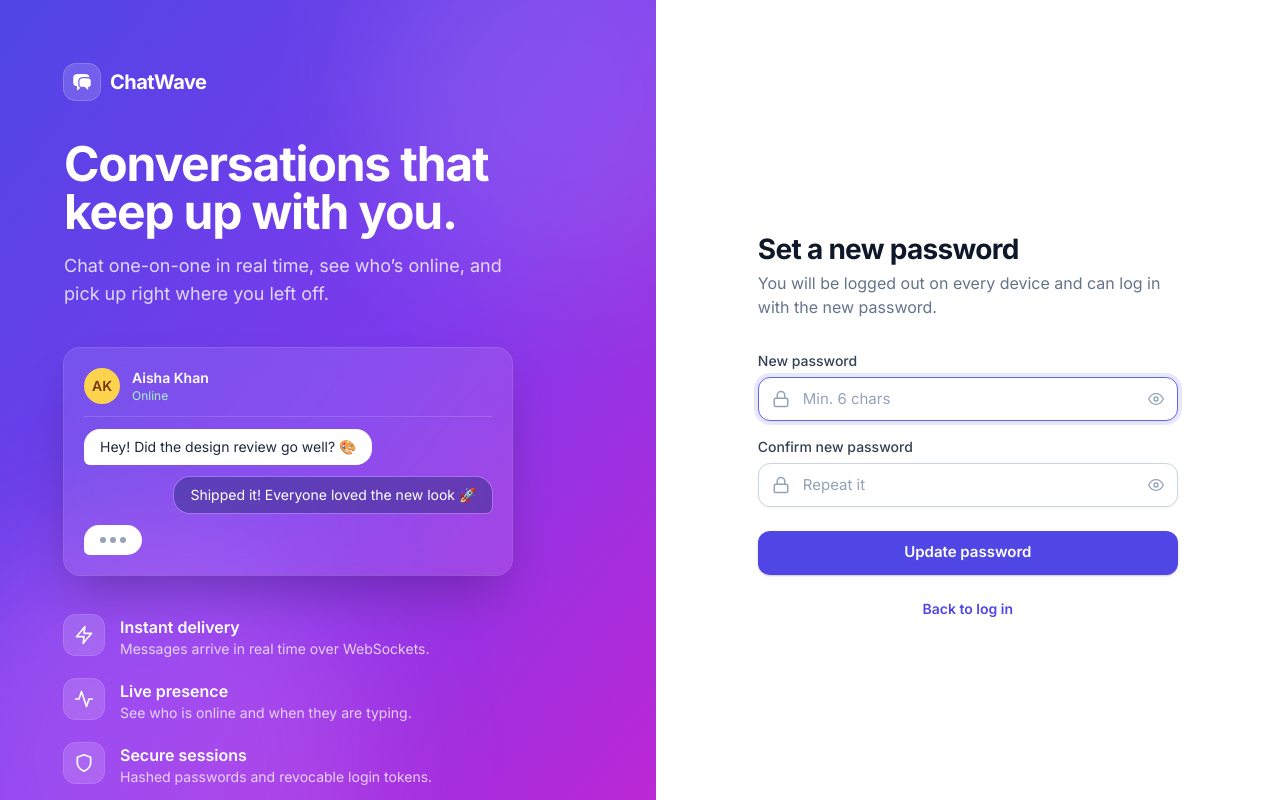
Test: Reset password page › mismatched passwords are caught before sending
Type "secret1" into the password field labelled "New password" at (968, 398), box [758,376,1178,420]
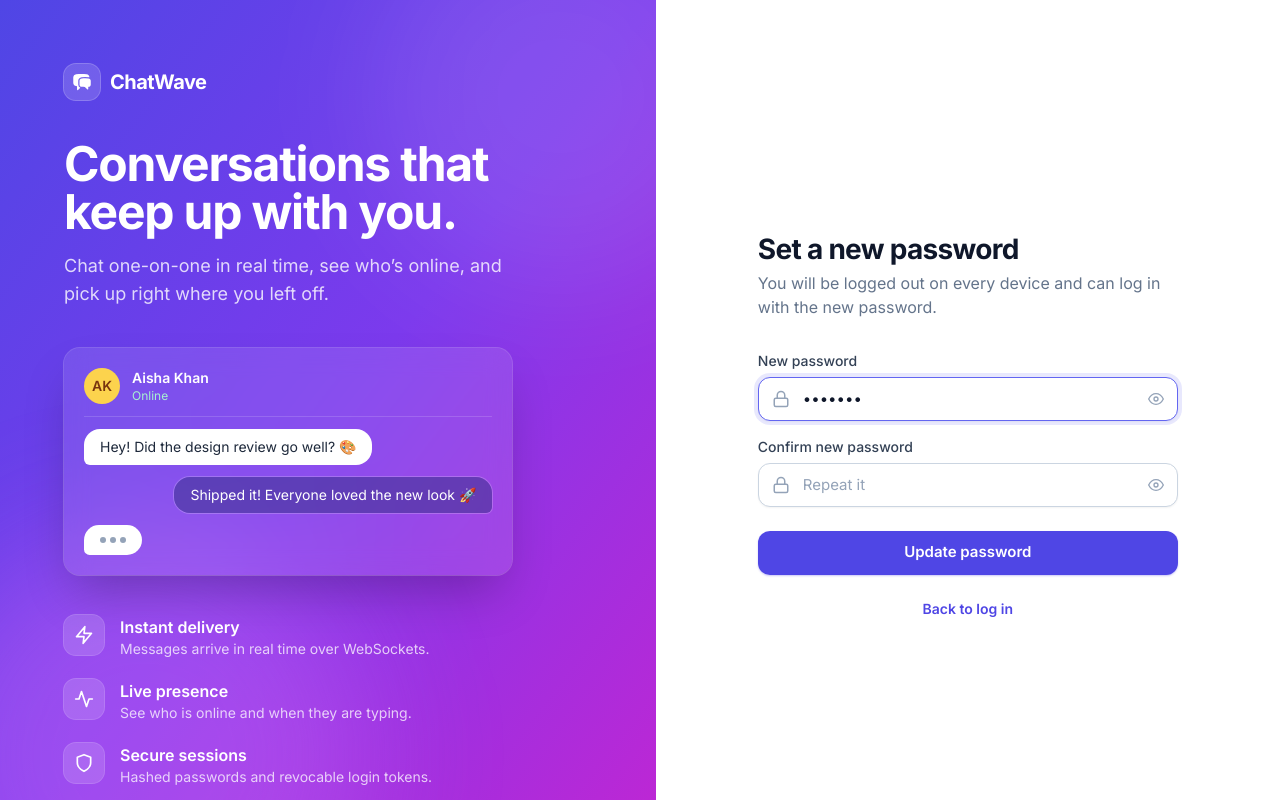
Type "secret2" into the password field labelled "Confirm new password" at (968, 484), box [758,462,1178,506]
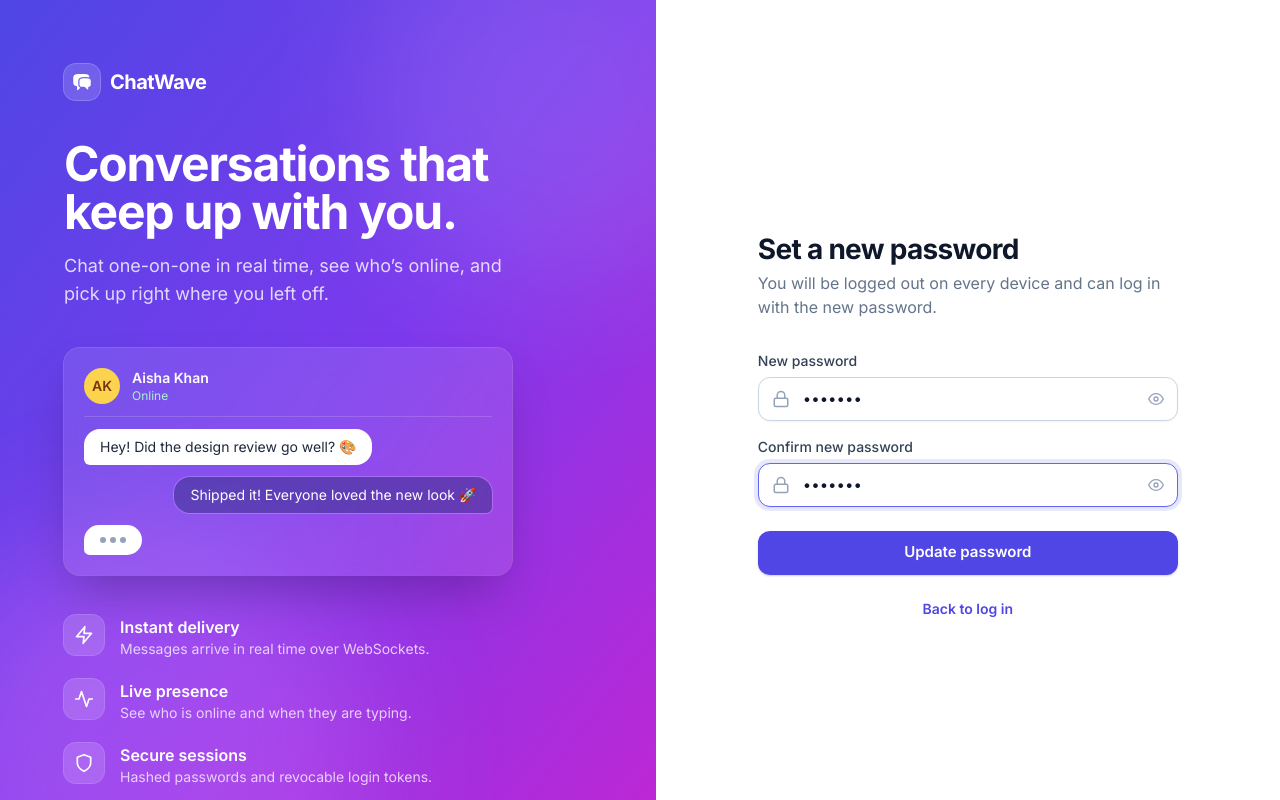
Click the button "Update password" at (968, 552), box [758,530,1178,574]
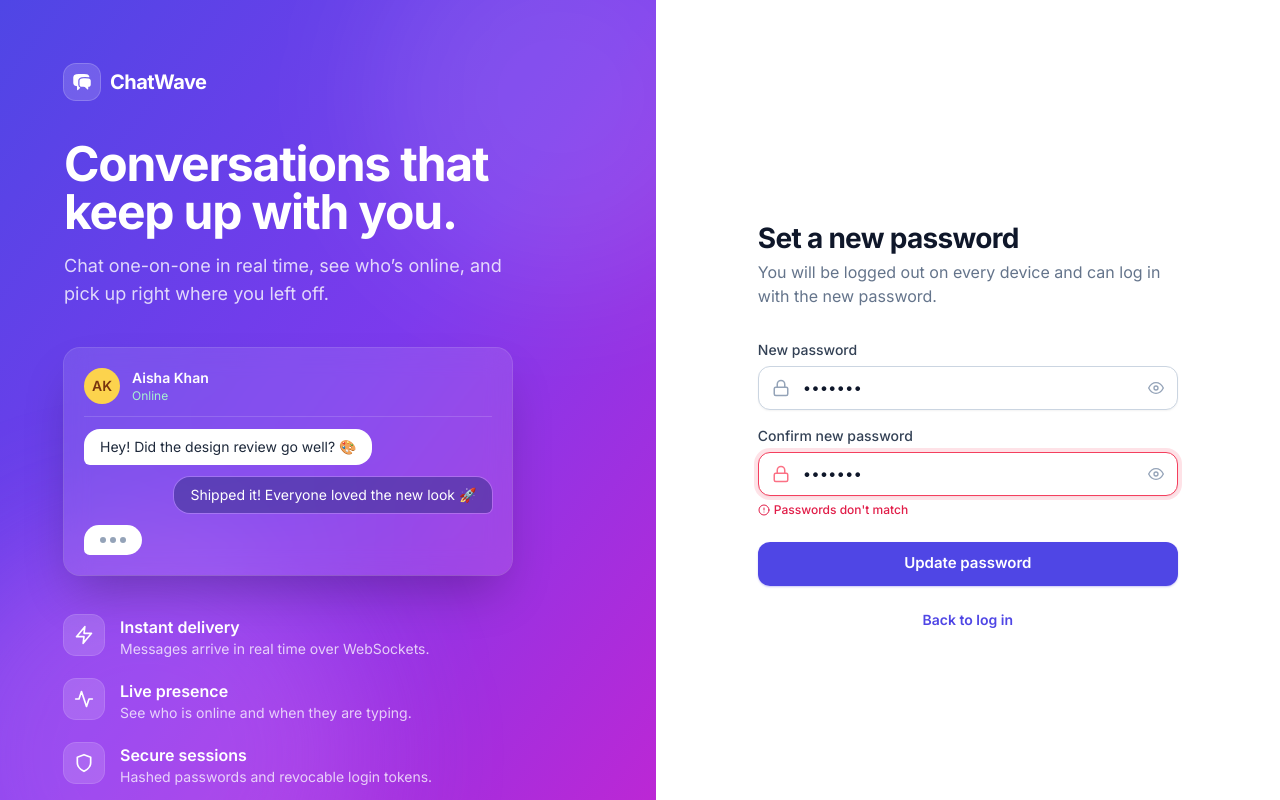
Now the text "Passwords don't match" is shown, box [758,502,908,516]
